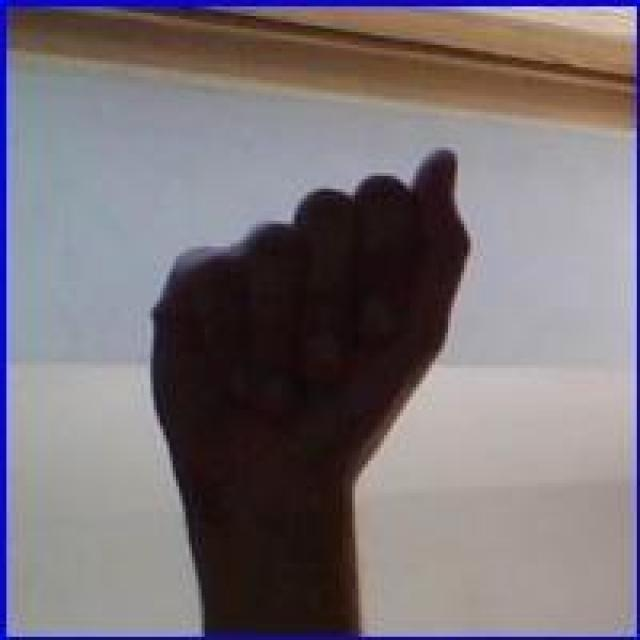A: (138, 140, 480, 506)
